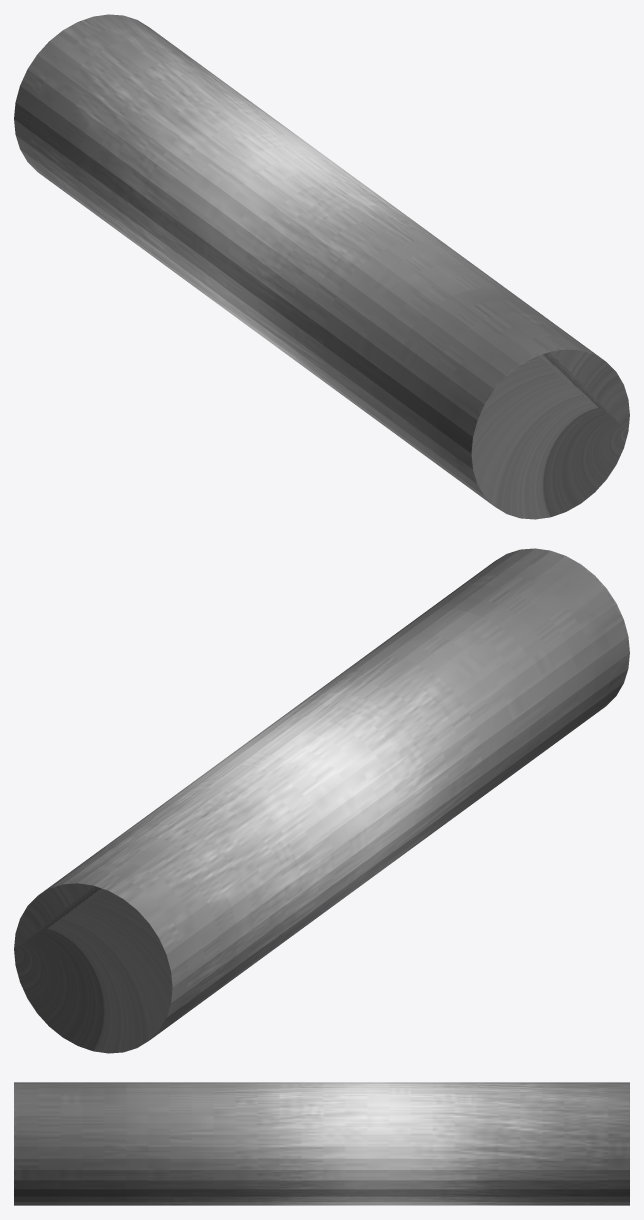
The model's file is rail.obj.
3 renders of one model, top to bottom at view 1: azimuth 30°, elevation 25°; view 2: azimuth 150°, elevation 25°; view 3: azimuth 270°, elevation 25°, orthographic. The views are drawn at different scales.
Parts seen in each view (by area): view 1: 圓柱體; view 2: 圓柱體; view 3: 圓柱體.
Part boxes in pixels (x1,y1,x2,y2): 圓柱體: (14, 14, 629, 519); 圓柱體: (14, 548, 629, 1053); 圓柱體: (14, 1082, 629, 1205).
Size of the model in its own units: 0.4 by 0.4 by 2.
